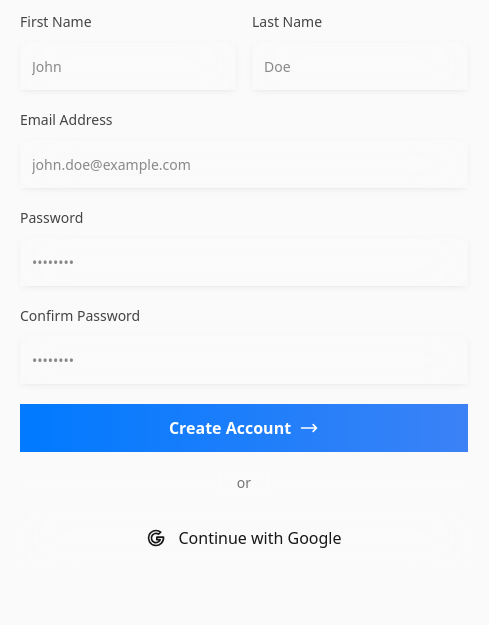
Test: SignupForm › displays validation errors for empty required fields
This screenshot has width=489, height=625.
Click the button "Create Account" at [244, 428], box [20,404,468,452]
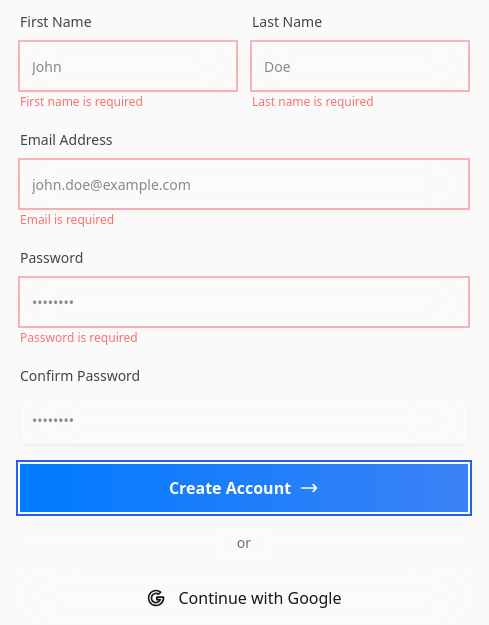
Now the text "First name is required" is shown, box [20,93,143,110]
Now the text "Last name is required" is shown, box [252,93,374,110]
Now the text "Email is required" is shown, box [20,211,114,228]
